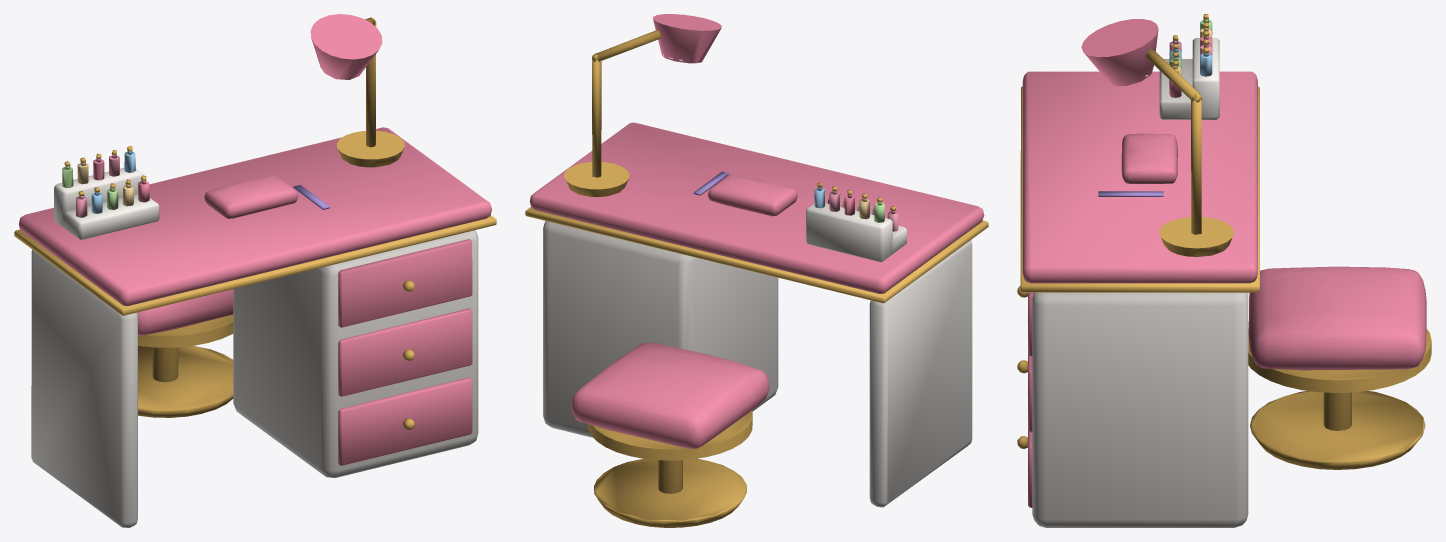
The model's file is nail-desk-pastel.glb.
3 renders of one model, left to right at view 1: azimuth 30°, elevation 25°; view 2: azimuth 150°, elevation 25°; view 3: azimuth 270°, elevation 25°, orthographic. The views are drawn at different scales.
Parts seen in each view (by area): view 1: nail-desk-pastel; view 2: nail-desk-pastel; view 3: nail-desk-pastel.
Part boxes in pixels (x1,y1,x2,y2): nail-desk-pastel: (14, 14, 496, 527); nail-desk-pastel: (525, 14, 988, 527); nail-desk-pastel: (1017, 14, 1431, 527).
Size of the model in its own units: 1.01 by 1.06 by 0.8819.
